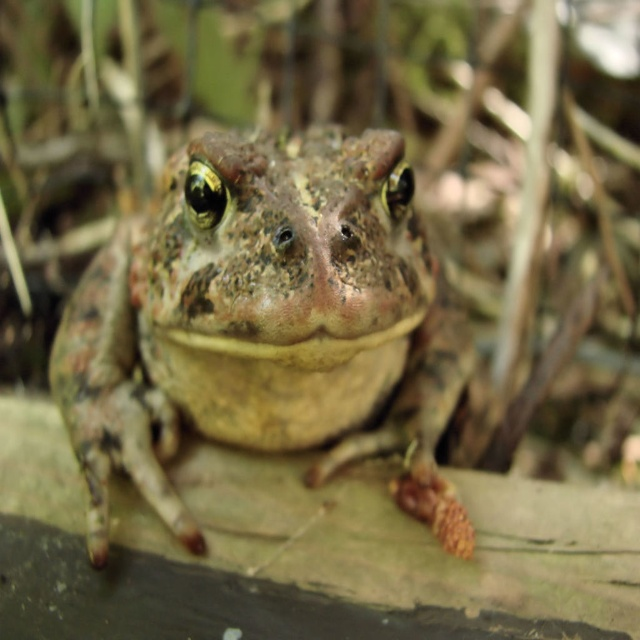Frog: (47, 125, 506, 567)
